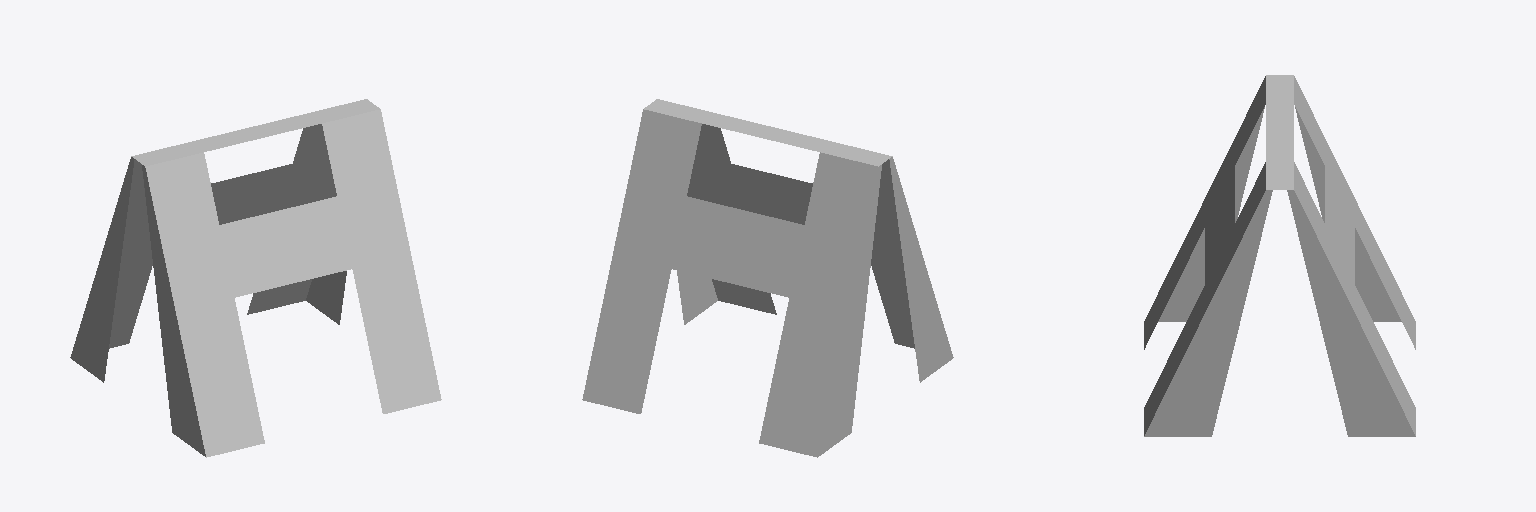
File: stopper.obj
3 views of the same model, side by side, from view 1: azimuth 30°, elevation 25°; view 2: azimuth 150°, elevation 25°; view 3: azimuth 270°, elevation 25° (orthographic).
Visible parts, largest first — view 1: Cube_Cube.002; view 2: Cube_Cube.002; view 3: Cube_Cube.002.
Boxes of the visible parts, x1,y1,x2,y2 form: Cube_Cube.002: [70, 99, 441, 457]; Cube_Cube.002: [582, 99, 953, 457]; Cube_Cube.002: [1144, 75, 1415, 436].
Size of the model in its own units: 2 by 2 by 2.